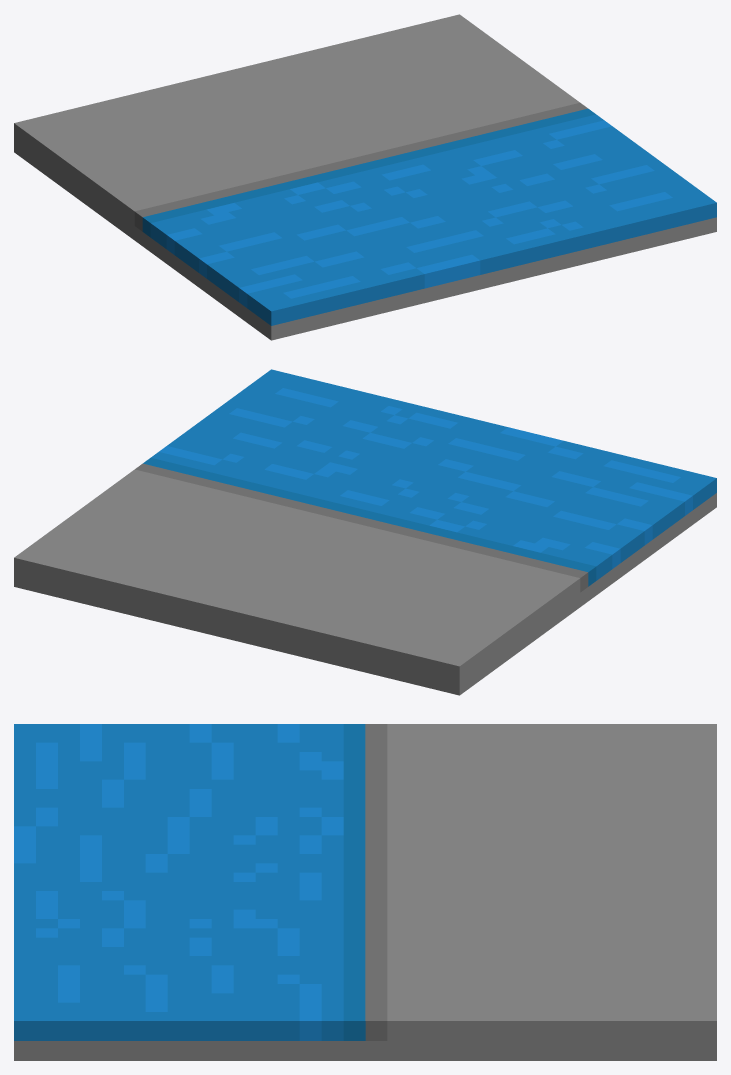
Rendered from city-water-side-1.gltf.
The picture shows the model from 3 angles, top to bottom: view 1: azimuth 30°, elevation 25°; view 2: azimuth 150°, elevation 25°; view 3: azimuth 270°, elevation 25°; orthographic projection. The views are drawn at different scales.
Visible parts, largest first — view 1: city-water-side-1; view 2: city-water-side-1; view 3: city-water-side-1.
Part boxes in pixels (x1=…): city-water-side-1: x1=14, y1=14, x2=716, y2=340; city-water-side-1: x1=14, y1=369, x2=716, y2=695; city-water-side-1: x1=14, y1=724, x2=716, y2=1060.
Bounding box in the file's own units: 3.2 × 0.2 × 3.2.
Materials: 1 (1 with a texture image).
